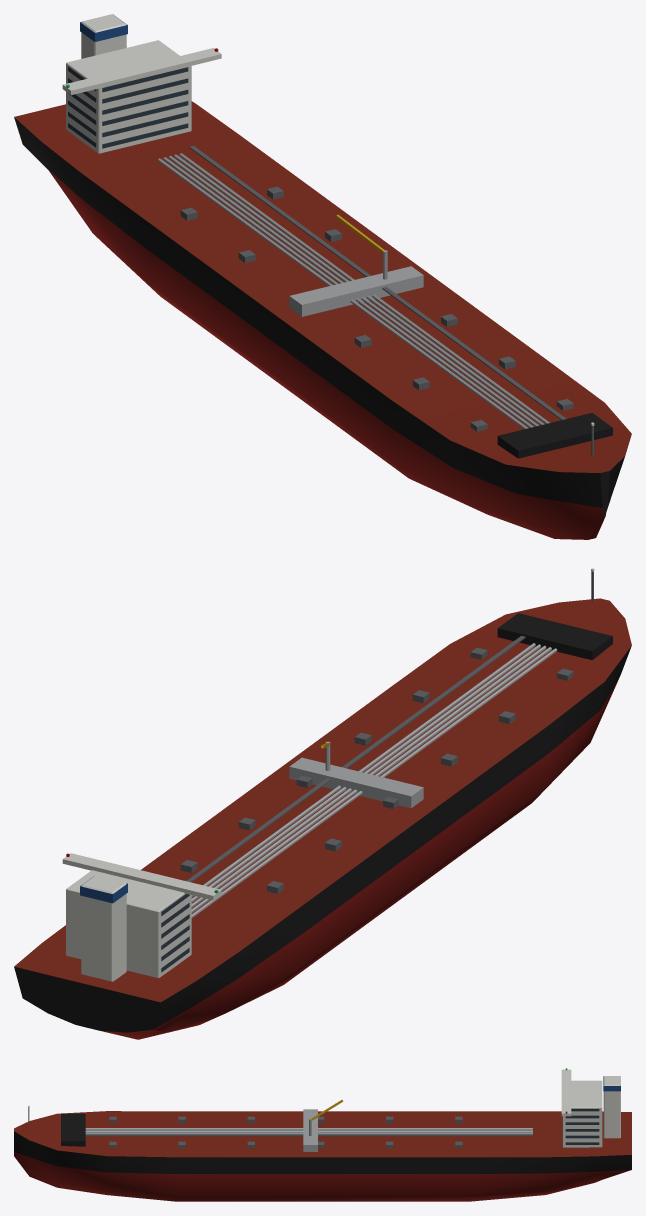
File: petrolier.glb
3 renders of one model, top to bottom at view 1: azimuth 30°, elevation 25°; view 2: azimuth 150°, elevation 25°; view 3: azimuth 270°, elevation 25°, orthographic. The views are drawn at different scales.
Visible parts, largest first — view 1: petrolier; view 2: petrolier; view 3: petrolier.
Boxes of the visible parts, x1,y1,x2,y2 form: petrolier: [14, 14, 631, 539]; petrolier: [14, 568, 631, 1039]; petrolier: [14, 1068, 631, 1201].
Size of the model in its own units: 44 by 46 by 250.
